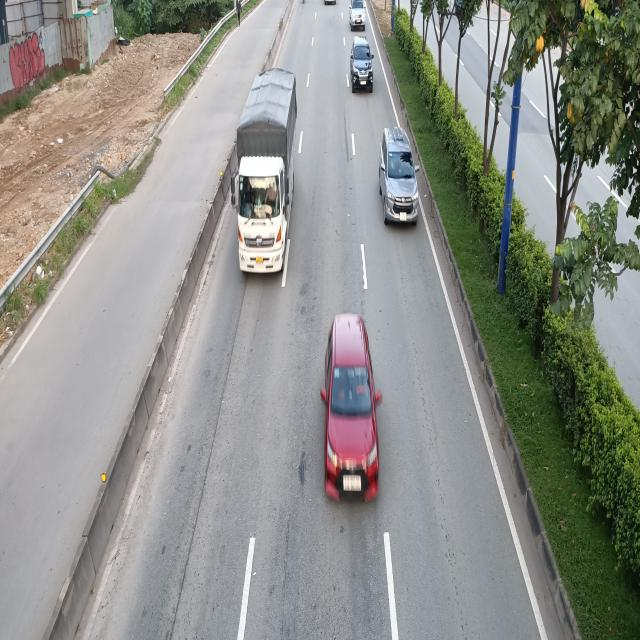car: (322, 316, 382, 501), (381, 126, 421, 226), (349, 39, 375, 94), (349, 0, 366, 29)
truck: (230, 67, 298, 276)
